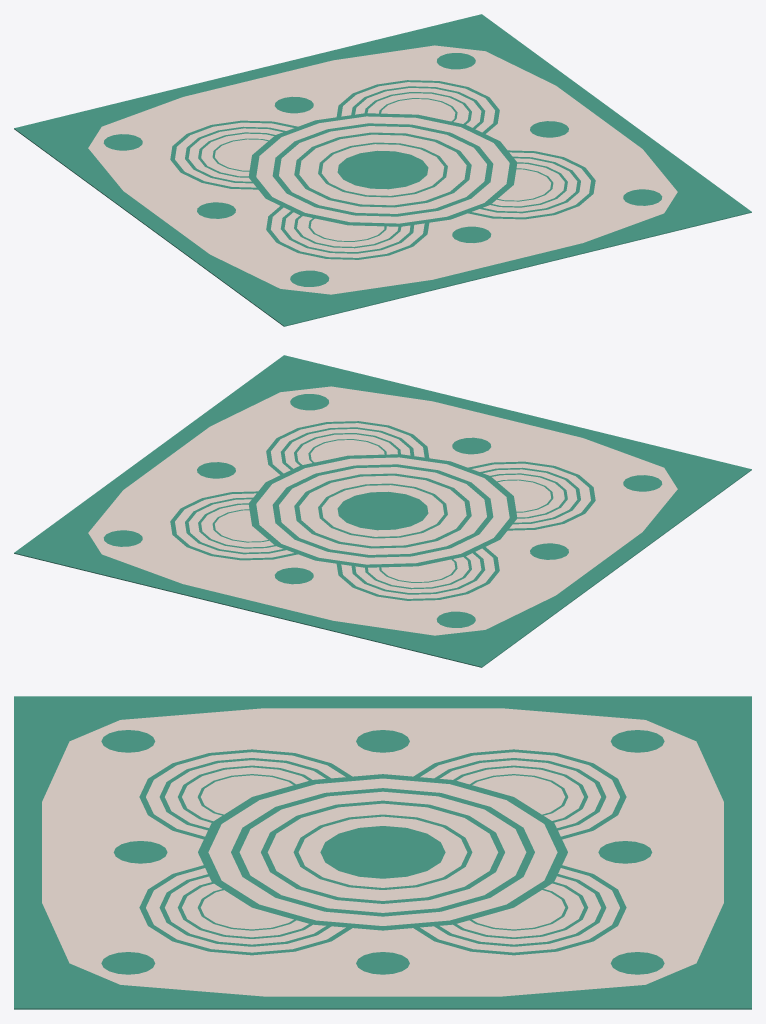
File: Carpet_5.fbx
3 renders of one model, top to bottom at view 1: azimuth 30°, elevation 25°; view 2: azimuth 150°, elevation 25°; view 3: azimuth 270°, elevation 25°, orthographic. The views are drawn at different scales.
Visible parts, largest first — view 1: Carpet_5; view 2: Carpet_5; view 3: Carpet_5.
Boxes of the visible parts, x1=… form: Carpet_5: x1=14, y1=14, x2=751, y2=326; Carpet_5: x1=14, y1=355, x2=751, y2=667; Carpet_5: x1=14, y1=696, x2=751, y2=1009.
Size of the model in its own units: 409 by 409 by 0.8019.
